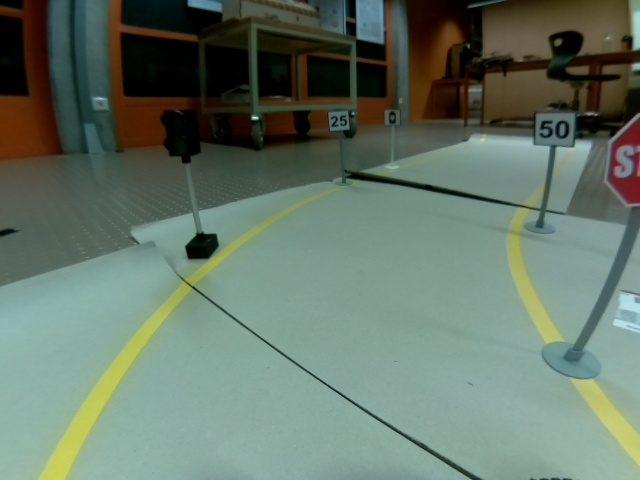battery: (383, 108, 403, 126)
speed25: (326, 109, 351, 132)
speed50: (532, 110, 577, 147)
stop: (604, 109, 640, 208)
trafficLightOff: (159, 107, 204, 158)
